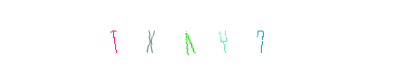7: (163, 0, 243, 80)
A: (154, 0, 234, 80)
T: (74, 0, 154, 80)
X: (149, 0, 229, 80)
Y: (157, 0, 237, 80)
